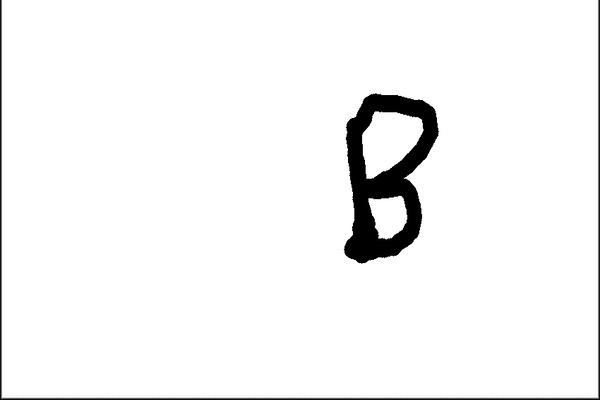B: (333, 84, 444, 270)
